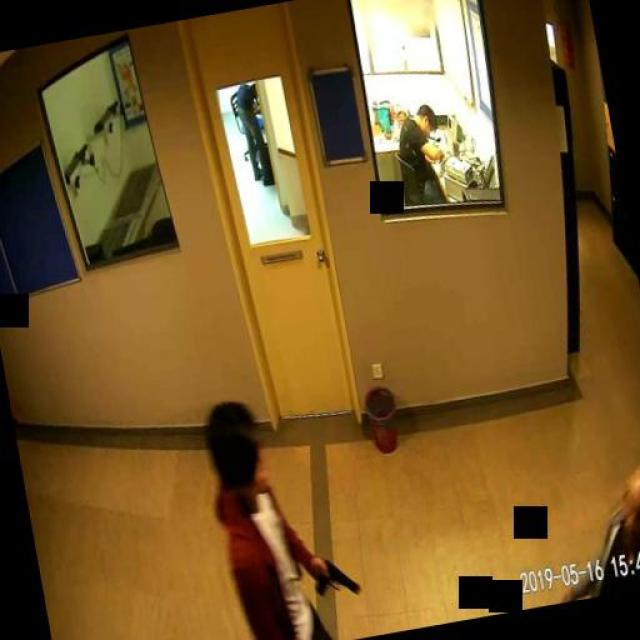gun: (309, 550, 359, 601)
